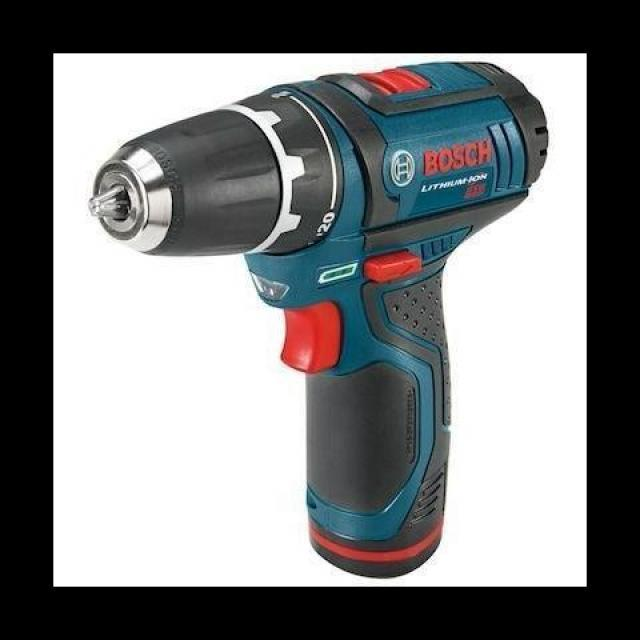drill: (88, 61, 550, 580)
